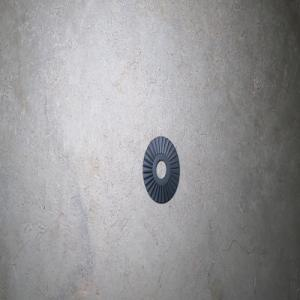Washer: (142, 136, 179, 203)
